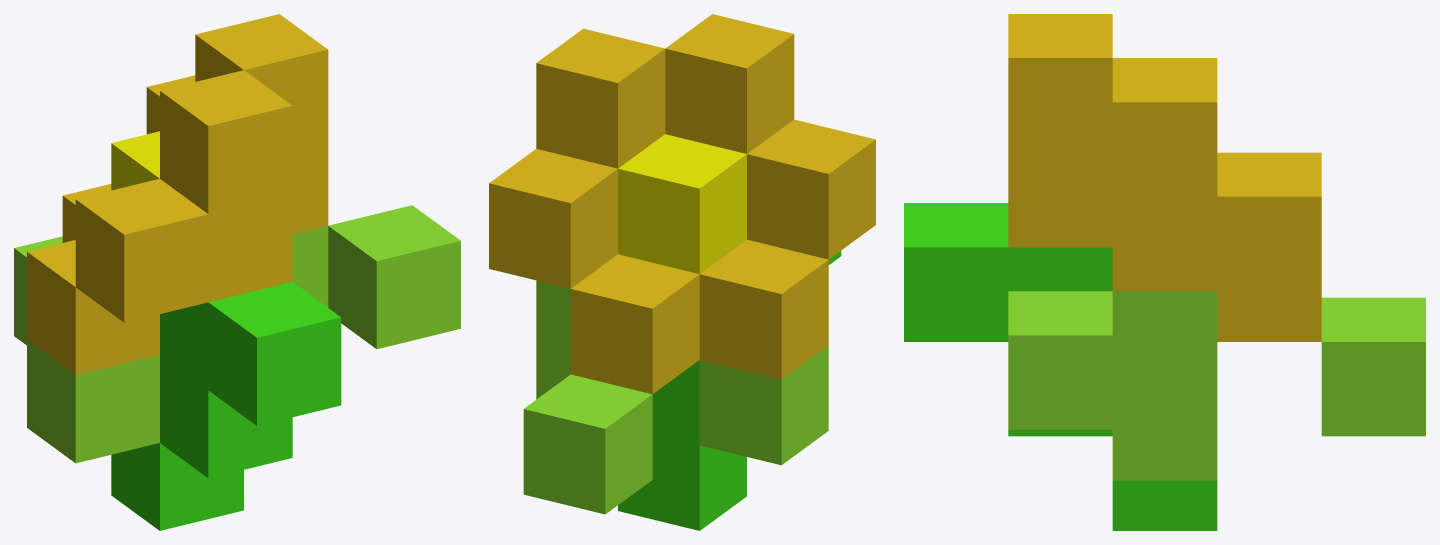
The model's file is tile-51.obj.
3 renders of one model, left to right at view 1: azimuth 30°, elevation 25°; view 2: azimuth 150°, elevation 25°; view 3: azimuth 270°, elevation 25°, orthographic. The views are drawn at different scales.
Size of the model in its own units: 0.4 by 0.5 by 0.5.
Materials: 1 (1 with a texture image).
